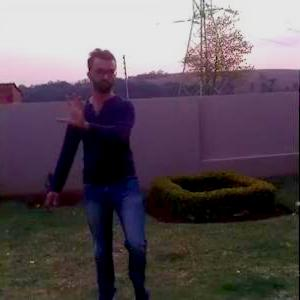follow_hand: (54, 88, 88, 130)
